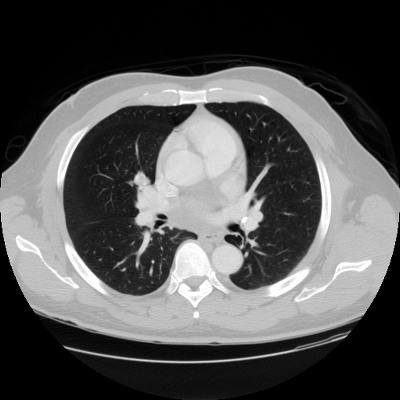PN: (134, 173, 148, 187)
